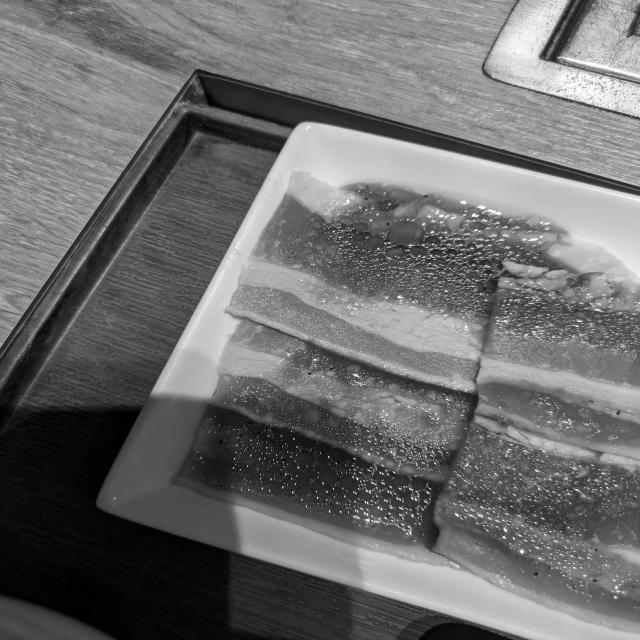NG raw beef,: (215, 165, 632, 399), (159, 405, 456, 574), (210, 318, 480, 496), (432, 410, 640, 640), (471, 257, 640, 462)
